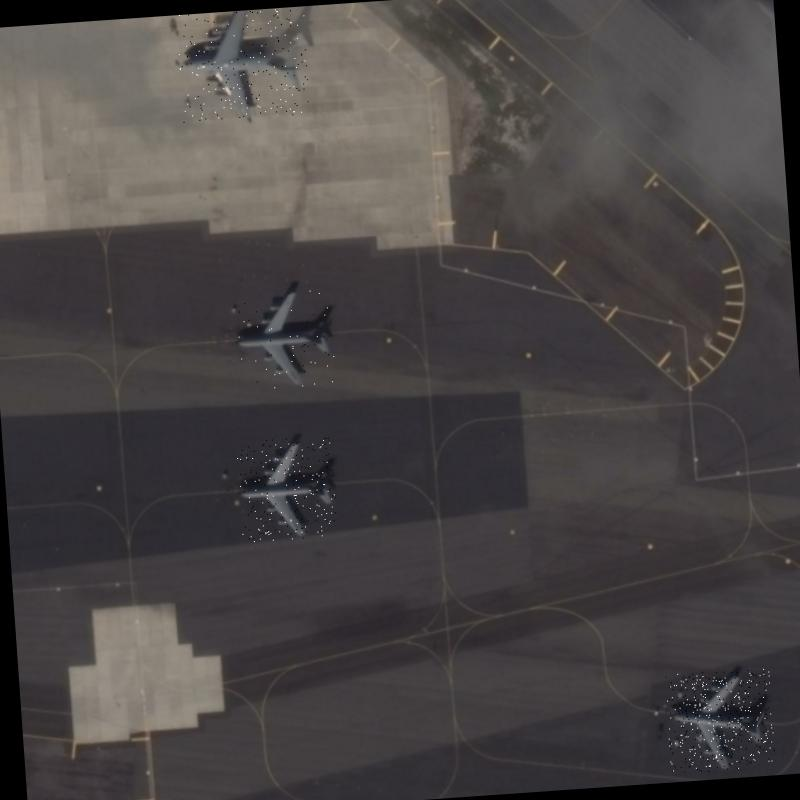A14: (664, 667, 776, 774), (231, 284, 339, 392), (236, 435, 338, 542)
A3: (175, 6, 311, 125)
